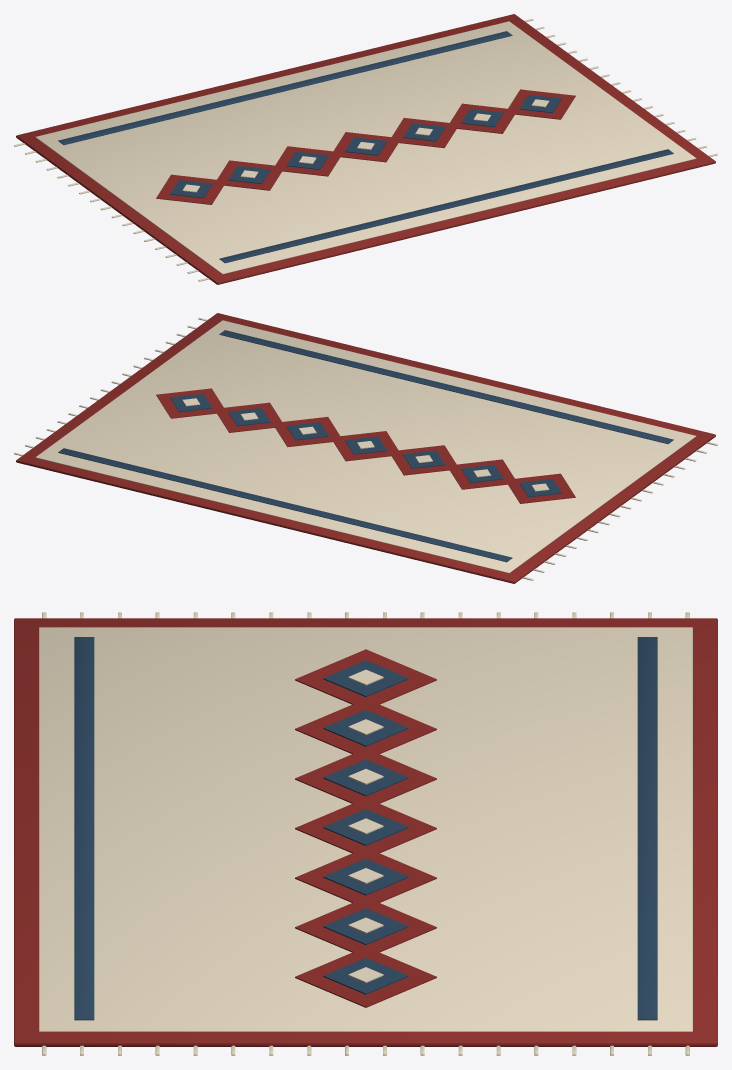
The model's file is rug_kilim.glb.
The picture shows the model from 3 angles, top to bottom: view 1: azimuth 30°, elevation 25°; view 2: azimuth 150°, elevation 25°; view 3: azimuth 270°, elevation 25°; orthographic projection. The views are drawn at different scales.
Visible parts, largest first — view 1: box.001, box, box.002, box.003, box.004, box.022, box.013, box.007, box.010, box.016, box.019, box.017 (+6 smaller); view 2: box.001, box, box.002, box.003, box.019, box.004, box.013, box.007, box.022, box.010, box.016, box.011 (+6 smaller); view 3: box.001, box, box.002, box.003, box.004, box.022, box.007, box.010, box.013, box.016, box.019, box.011 (+6 smaller).
Part boxes in pixels (x1,y1,x2,y2): box.001: (35, 21, 696, 274); box: (16, 14, 715, 284); box.002: (219, 149, 673, 263); box.003: (58, 31, 512, 144); box.004: (156, 174, 225, 204); box.022: (505, 89, 575, 119); box.013: (333, 132, 400, 162); box.007: (217, 160, 284, 190); box.010: (275, 146, 342, 176); box.016: (392, 118, 459, 148); box.019: (450, 103, 516, 133); box.017: (403, 123, 445, 141); box.001: (35, 320, 696, 573); box: (16, 313, 715, 583); box.002: (219, 330, 673, 443); box.003: (58, 448, 512, 562); box.019: (214, 402, 284, 432); box.004: (506, 473, 575, 503); box.013: (331, 431, 400, 461); box.007: (448, 459, 516, 489); box.022: (156, 388, 223, 418); box.010: (391, 445, 458, 475); box.016: (275, 417, 342, 447); box.011: (403, 450, 445, 468); box.001: (39, 627, 692, 1031); box: (14, 618, 717, 1046); box.002: (74, 637, 94, 1020); box.003: (637, 637, 657, 1020); box.004: (295, 649, 436, 708); box.022: (295, 948, 436, 1007); box.007: (295, 699, 436, 758); box.010: (295, 753, 436, 808); box.013: (295, 803, 436, 857); box.016: (295, 853, 436, 907); box.019: (295, 902, 436, 956); box.011: (323, 759, 408, 796).
Size of the model in its own units: 208 by 2 by 140.
